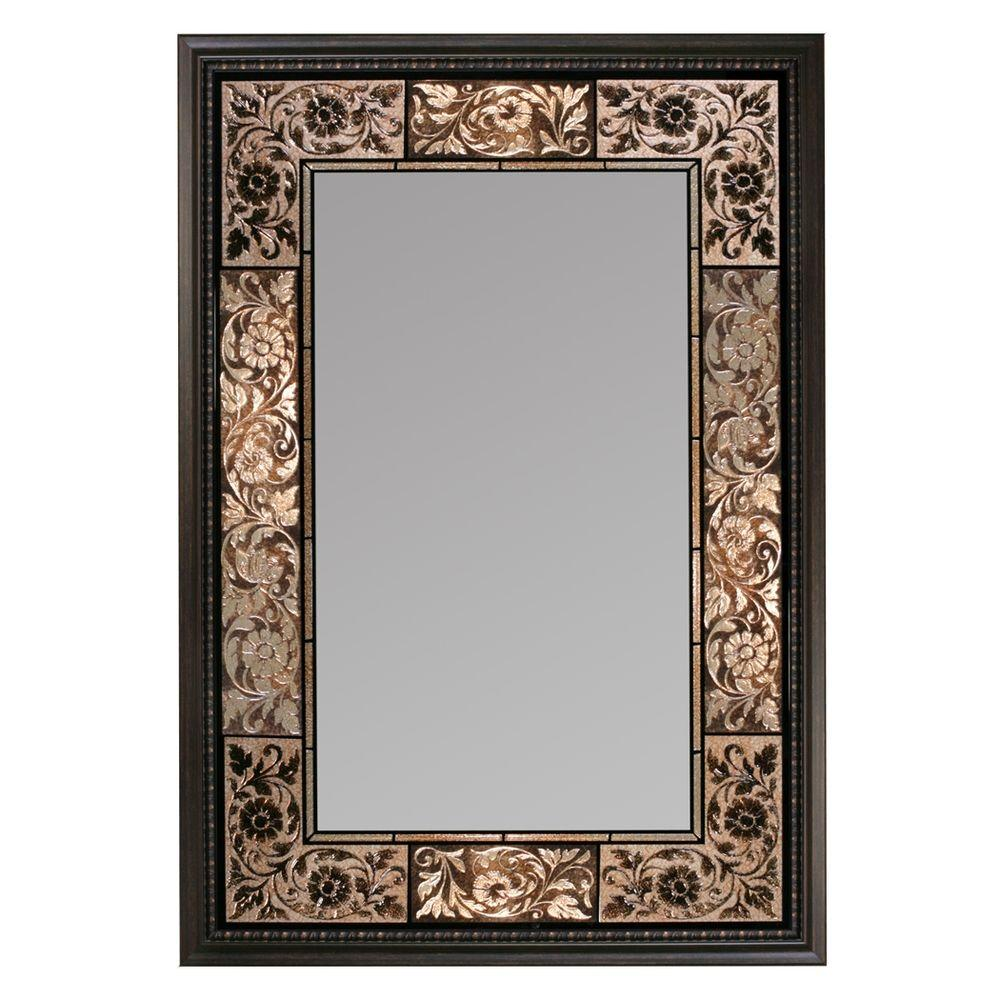Nonrec_Glass: (145, 35, 853, 956)
